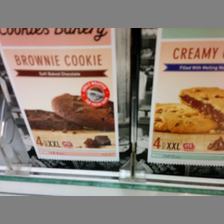chocolate: (1, 27, 120, 166), (147, 29, 224, 174)
